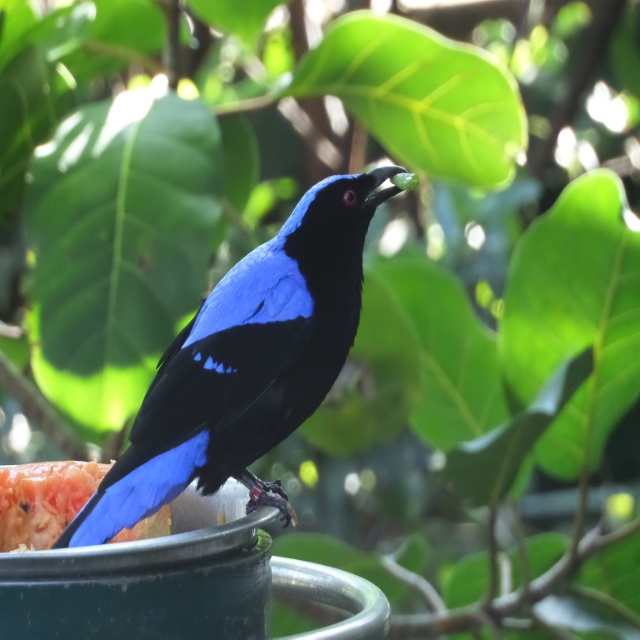Magpie: (50, 165, 409, 549)
